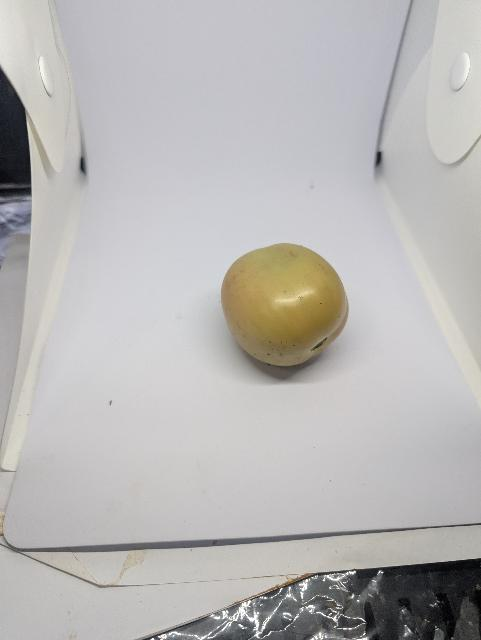turning: (215, 238, 352, 370)
